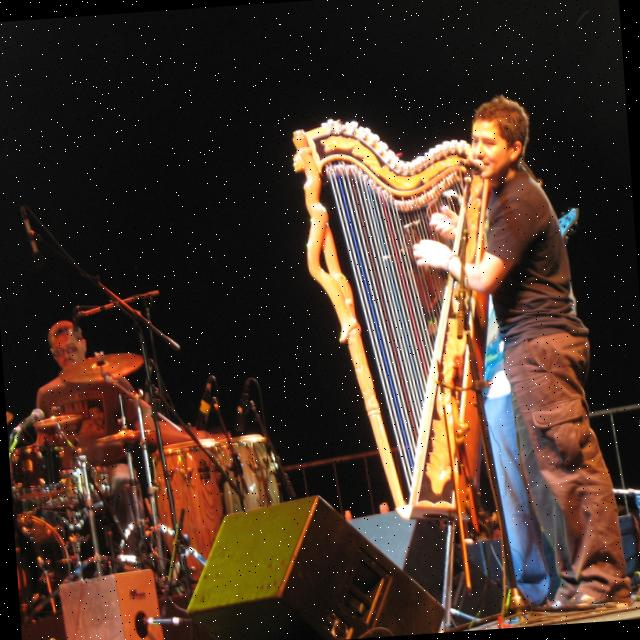drums: (5, 388, 194, 600)
harp: (286, 111, 516, 550)
